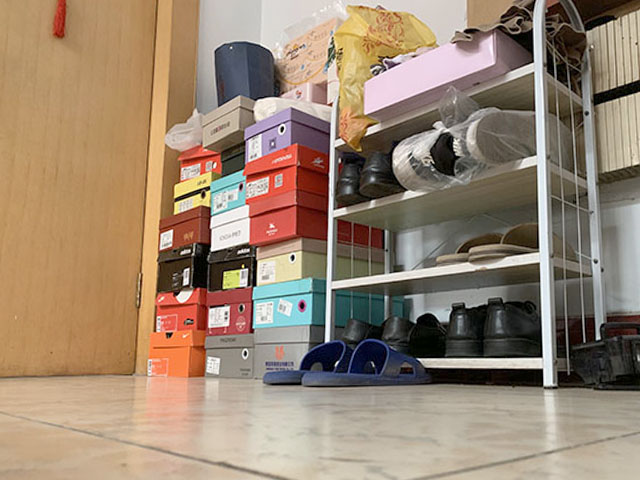slippers: (301, 340, 438, 388), (266, 340, 366, 386)
